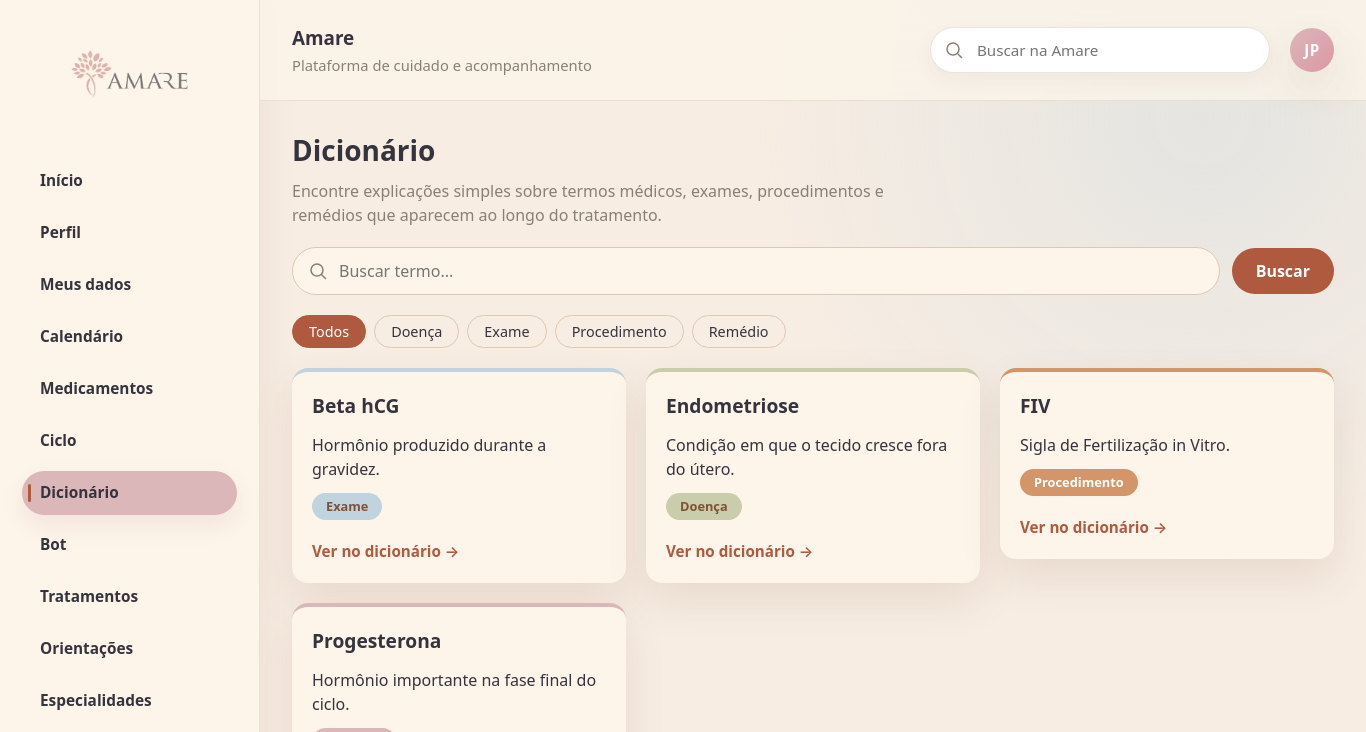
Test: Dicionário da Amare › exibe mensagem vazia quando a busca não tem resultados
Type "xyz" into the search field with test id "dicionario-busca-input" at (756, 271), box left=292, top=247, right=1220, bottom=295
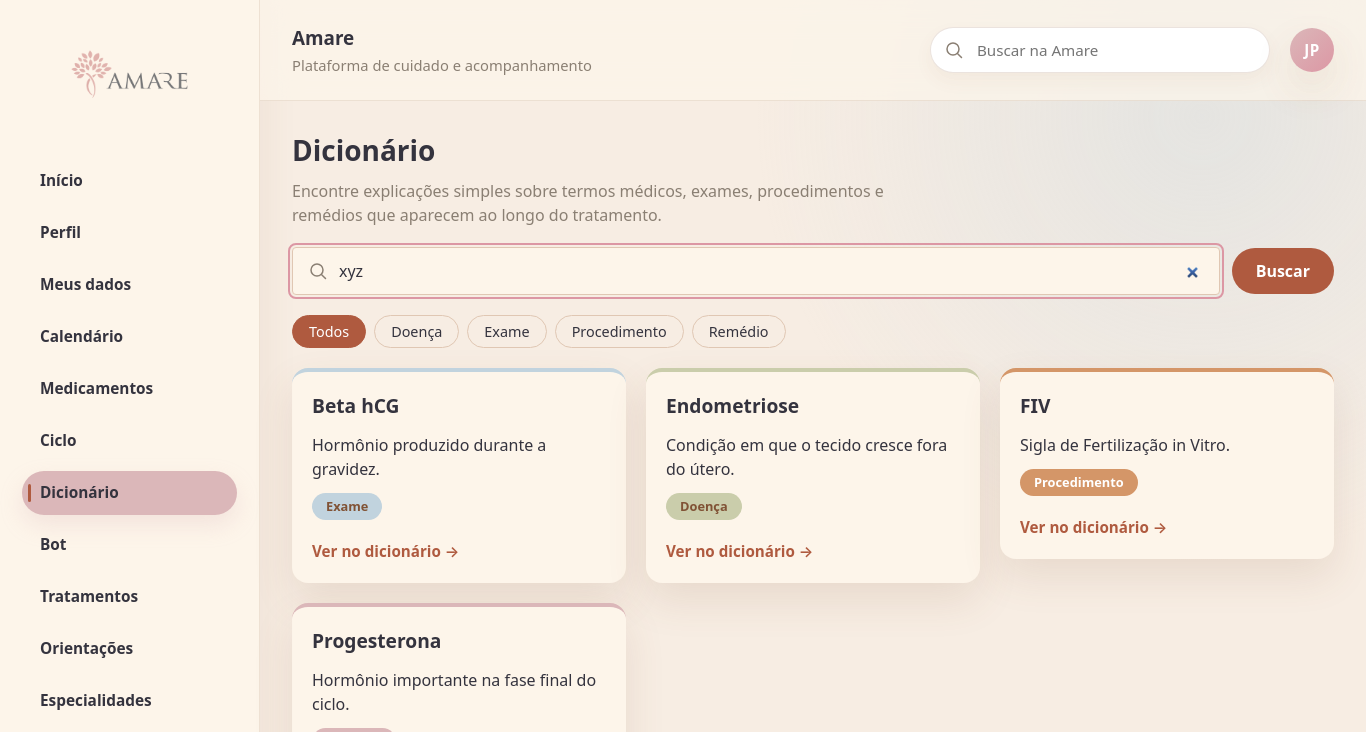
Click the button with test id "dicionario-busca-submit" at (1283, 271), box left=1232, top=248, right=1334, bottom=294
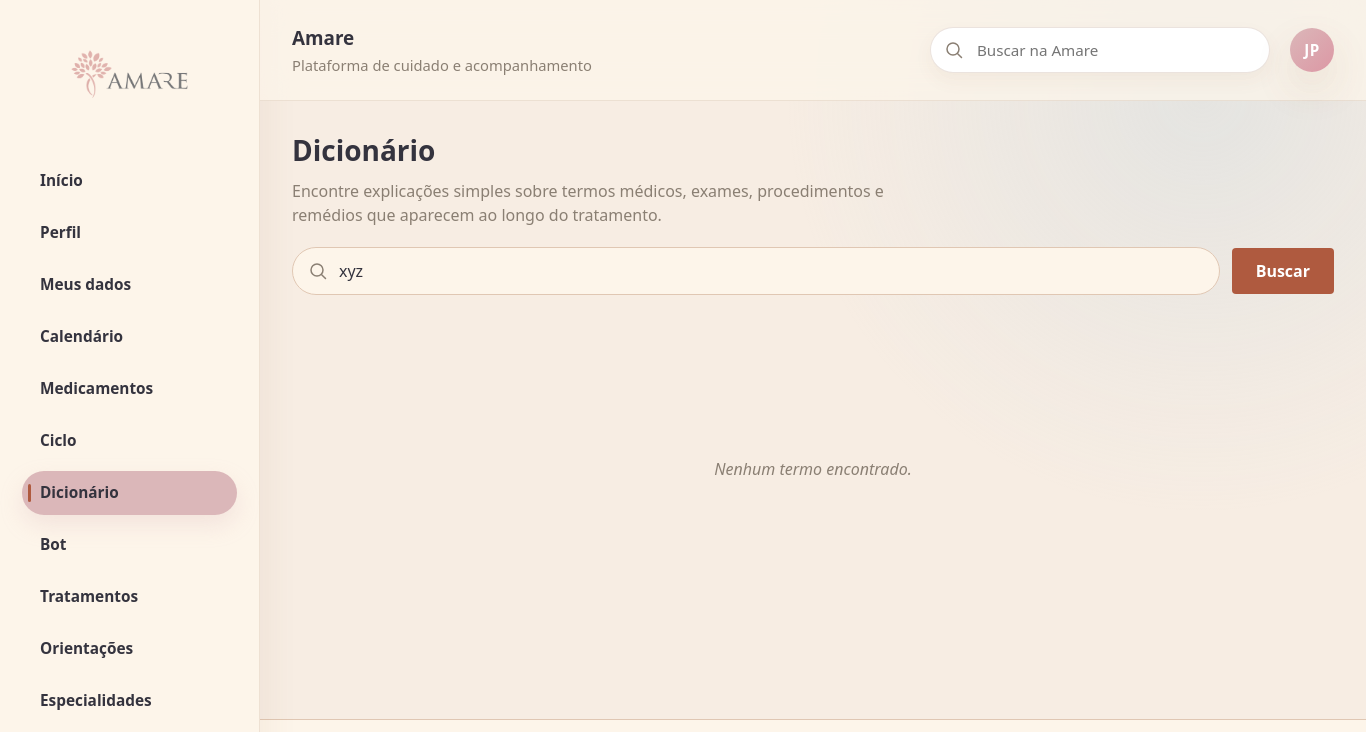
Now the text with test id "dicionario-mensagem-vazia" reads "Nenhum termo encontrado.", box left=714, top=458, right=912, bottom=480
